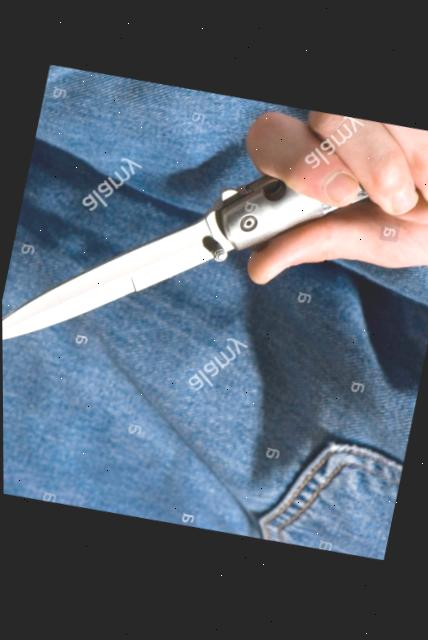pocket-knife: (0, 54, 428, 443)
